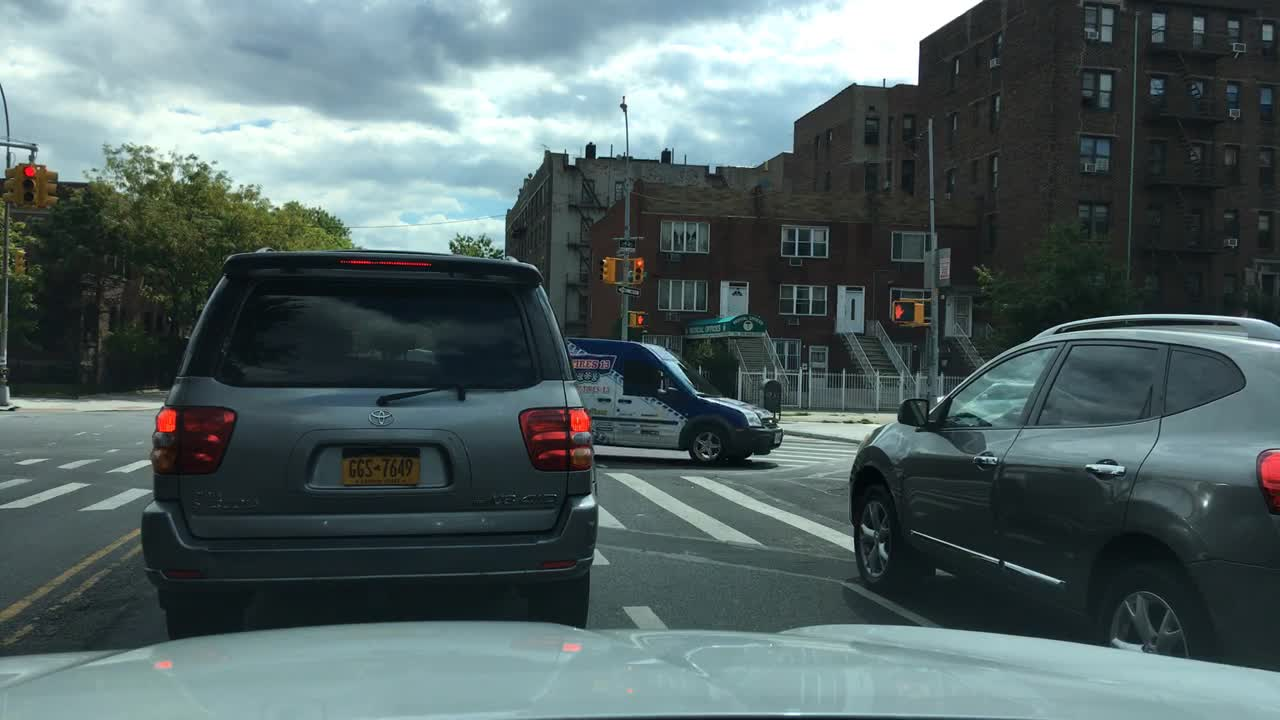car: (138, 244, 599, 639), (845, 311, 1279, 672), (564, 335, 784, 467)
traffic light: (21, 160, 39, 207), (41, 165, 60, 205), (4, 164, 21, 204), (892, 301, 915, 321), (599, 258, 614, 282), (630, 310, 649, 328), (16, 248, 28, 273), (910, 302, 924, 323), (633, 258, 643, 284)
traffic sign: (923, 250, 951, 288), (938, 249, 951, 277), (616, 285, 642, 297), (619, 238, 635, 250)
